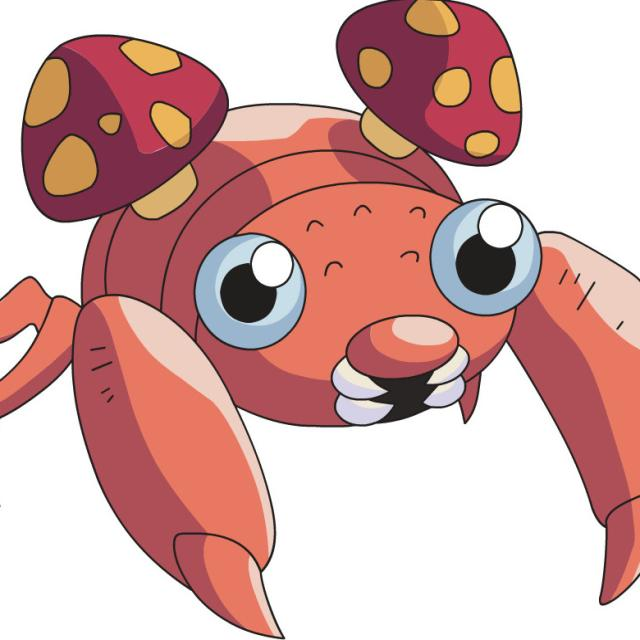Paras: (0, 0, 604, 438)
